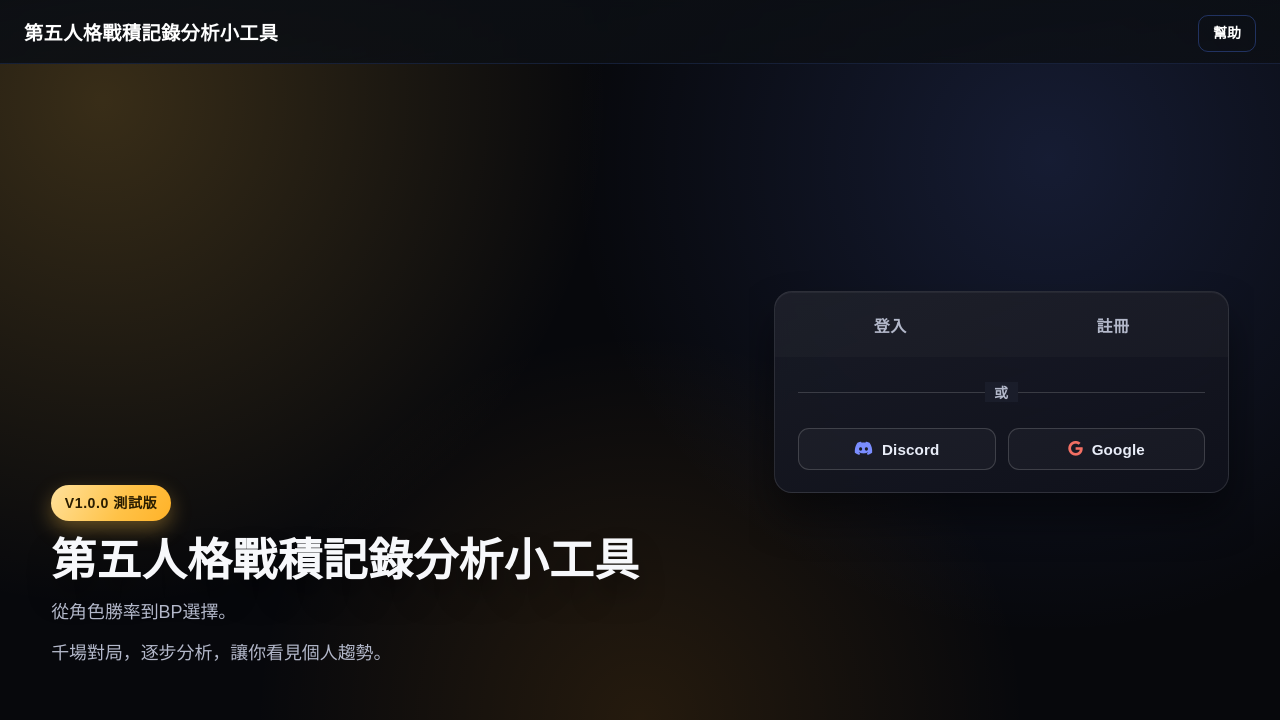
Test: Signin Page › displays error if OAuth URL is unsafe
The image size is (1280, 720).
Click the button "Discord" at (897, 449), box [798,428,996,470]
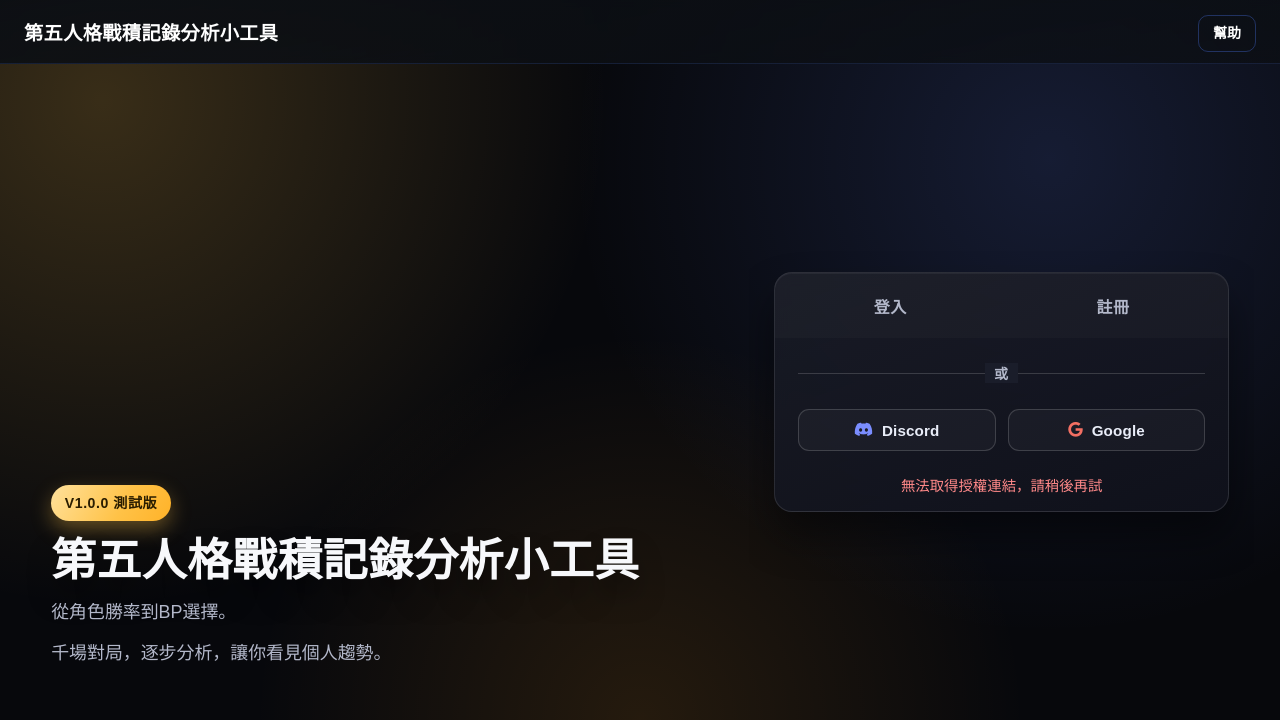
Check: the text "無法取得授權連結，請稍後再試" is shown, box [901,478,1102,494]
